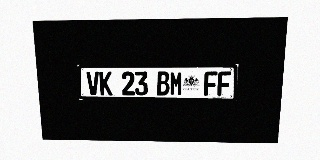2: (122, 71, 135, 95)
3: (135, 71, 148, 95)
B: (157, 71, 169, 95)
F: (217, 71, 231, 96), (204, 71, 217, 96)
K: (99, 71, 112, 95)
M: (170, 71, 183, 96)
V: (86, 71, 100, 95)
